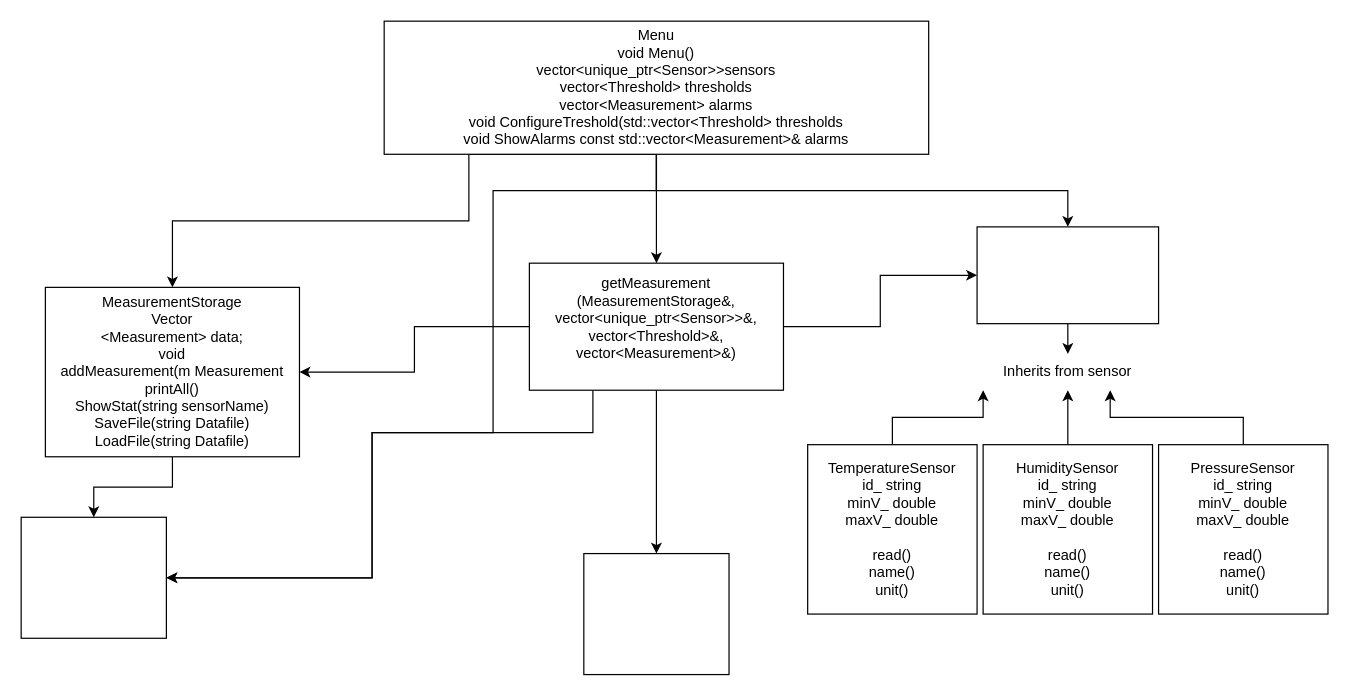
Some shapes in this 1349 by 696 pixel diagram are drawn without their labels. Each missing label, with the centre of its shape:
"<<abstract>> Sensor read() double name() string unit() string" goes at (1067,275).
"struct Measurement Sens string Unit string Val double TStamp string" goes at (93,577).
"struct Threshold sensorName string limit double over bool" goes at (656,613).
